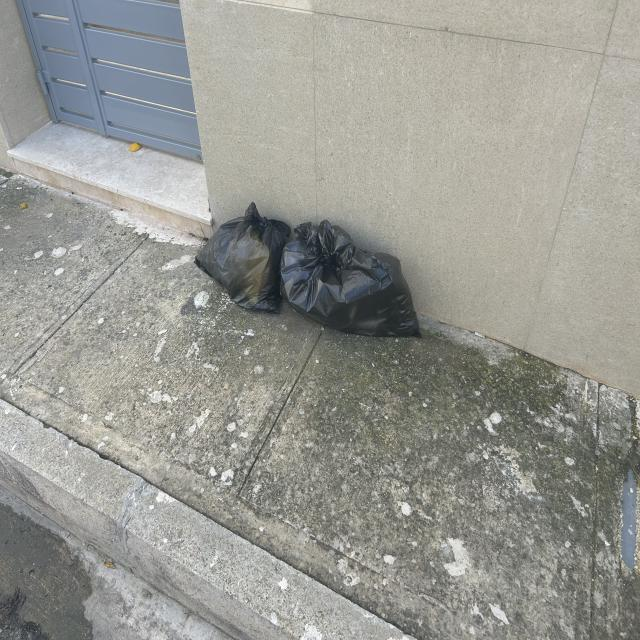black_bag: (282, 220, 428, 342), (192, 198, 289, 318)
